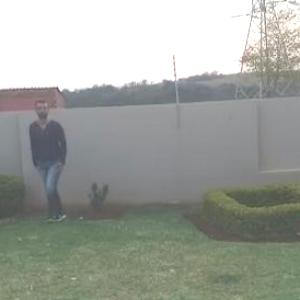follow: (24, 97, 78, 218)
